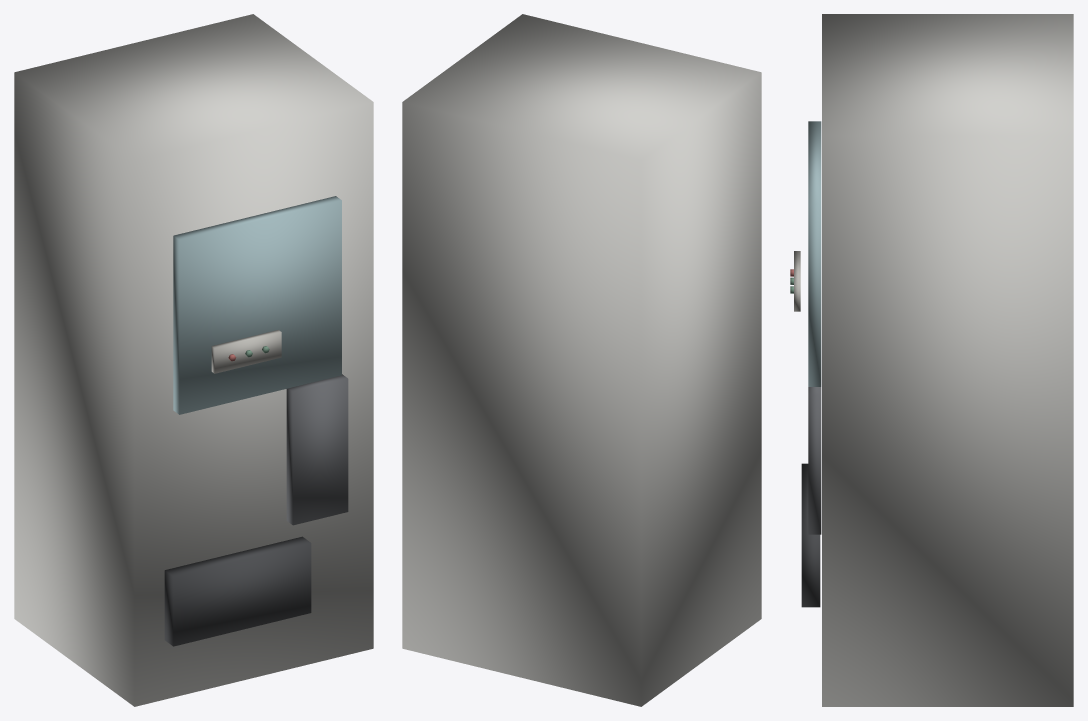
Rendered from snack_vending_machine__reinforced.glb.
The picture shows the model from 3 angles, left to right: view 1: azimuth 30°, elevation 25°; view 2: azimuth 150°, elevation 25°; view 3: azimuth 270°, elevation 25°; orthographic projection. The views are drawn at different scales.
Visible parts, largest first — view 1: world; view 2: world; view 3: world.
Boxes of the visible parts, left/top/right/bottom form: world: left=14, top=14, right=373, bottom=706; world: left=402, top=14, right=761, bottom=706; world: left=790, top=14, right=1073, bottom=706.
Size of the model in its own units: 0.8034 by 1.75 by 0.789.
